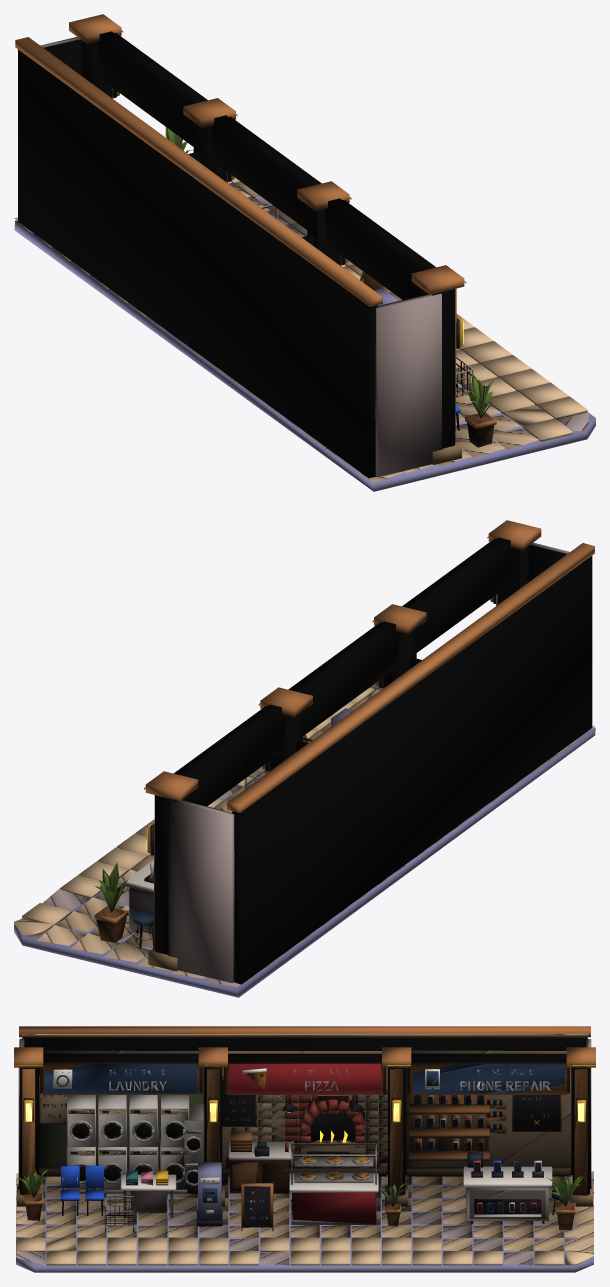
3 renders of one model, top to bottom at view 1: azimuth 30°, elevation 25°; view 2: azimuth 150°, elevation 25°; view 3: azimuth 270°, elevation 25°, orthographic. The views are drawn at different scales.
Bounding box in the file's own units: 5.08 × 3.96 × 13.46.
